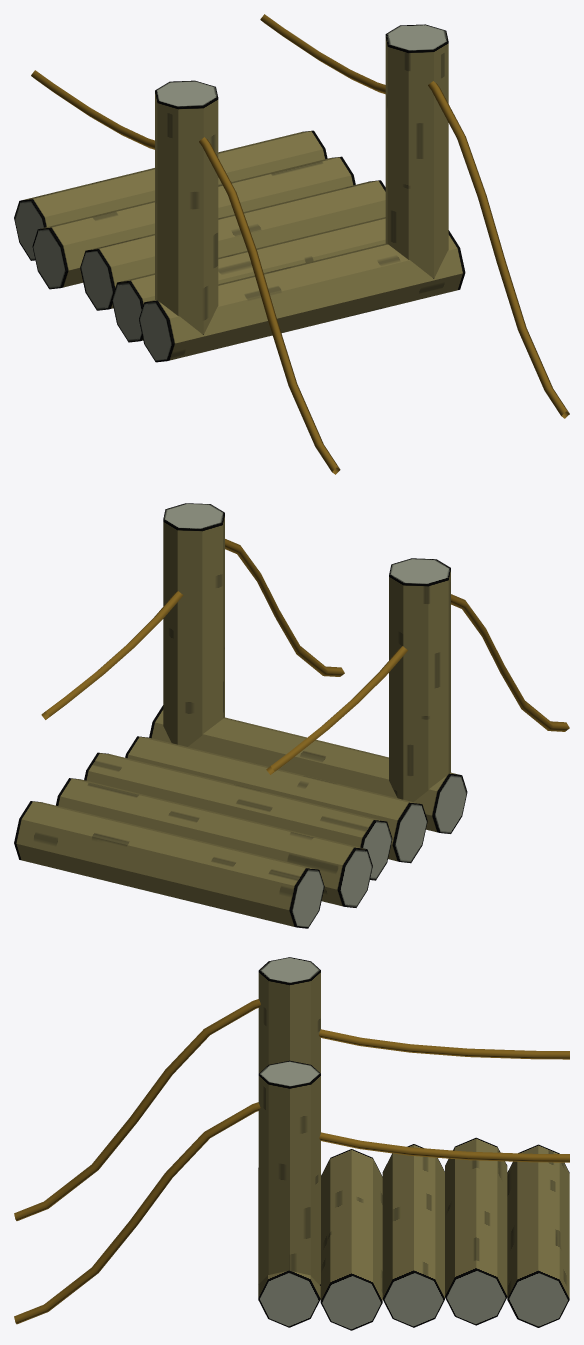
File: Bridge_Extreme.glb
3 views of the same model, one above another, from view 1: azimuth 30°, elevation 25°; view 2: azimuth 150°, elevation 25°; view 3: azimuth 270°, elevation 25° (orthographic). The views are drawn at different scales.
Visible parts, largest first — view 1: Bridge_Extreme; view 2: Bridge_Extreme; view 3: Bridge_Extreme.
Boxes of the visible parts, box(x1,y1,x2,y2) form: Bridge_Extreme: box(14, 14, 569, 474); Bridge_Extreme: box(14, 503, 569, 928); Bridge_Extreme: box(14, 957, 569, 1330).
Size of the model in its own units: 2.04 by 1.78 by 3.57.
Materials: 1 (1 with a texture image).
